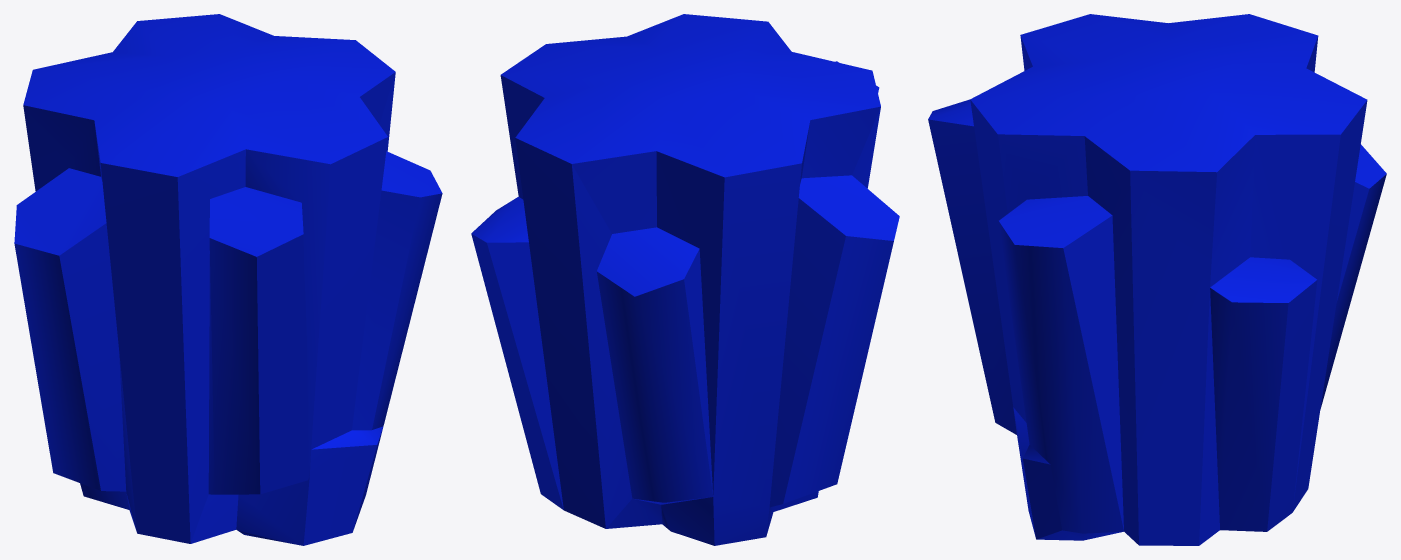
Rendered from obj_resource_sapphire.fbx.
3 views of the same model, side by side, from view 1: azimuth 30°, elevation 25°; view 2: azimuth 150°, elevation 25°; view 3: azimuth 270°, elevation 25° (orthographic).
Visible parts, largest first — view 1: sapphire_lp.002; view 2: sapphire_lp.002; view 3: sapphire_lp.002.
Boxes of the visible parts, x1,y1,x2,y2 form: sapphire_lp.002: (14, 14, 442, 545); sapphire_lp.002: (471, 14, 899, 545); sapphire_lp.002: (928, 14, 1386, 545).
Bounding box in the file's own units: 1.88 × 2.09 × 2.
